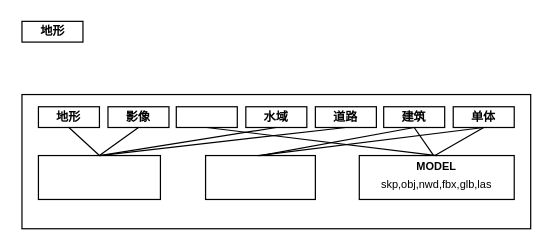
This 551x250 diagram has some shape labels left out. Here are the shapes that lost their labels. From the top down, the box of each, then its label:
(175, 106, 237, 127): 植被
(37, 154, 160, 199): GIS shp,wfs,wmts,3dtile
(204, 154, 315, 199): BIM rvt,dgn,ifc
